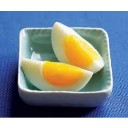begg: (23, 57, 91, 90)
